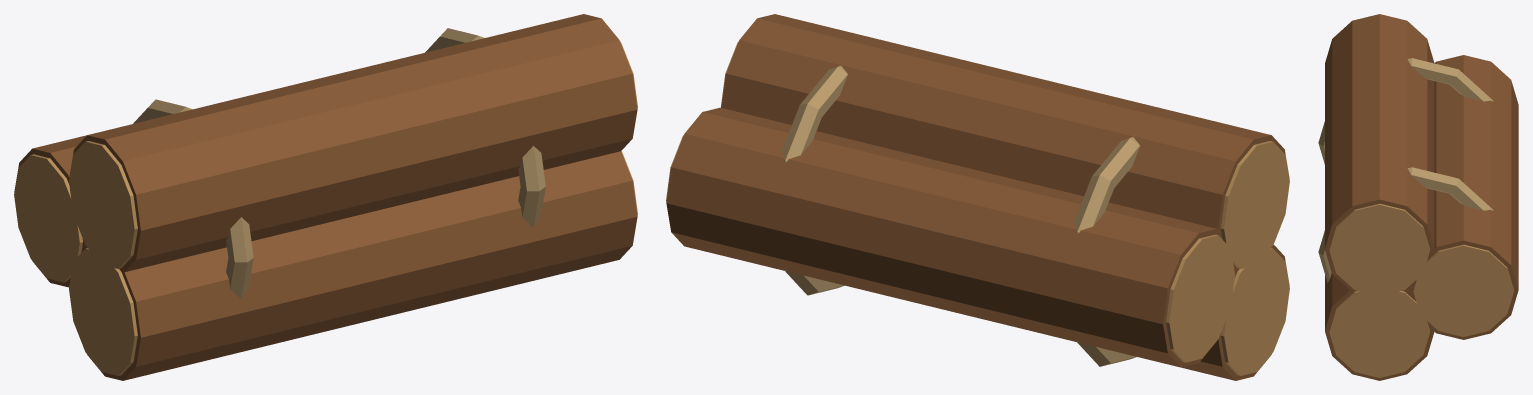
File: carry-wood-blockout.glb
The picture shows the model from 3 angles, left to right: view 1: azimuth 30°, elevation 25°; view 2: azimuth 150°, elevation 25°; view 3: azimuth 270°, elevation 25°; orthographic projection. The views are drawn at different scales.
Visible parts, largest first — view 1: Cylinder.003, Cylinder, Cylinder.004, Cylinder.001, Cylinder.007, Torus, Torus.001, Cylinder.006; view 2: Cylinder.006, Cylinder.003, Cylinder.007, Cylinder.004, Cylinder.001, Torus, Torus.001, Cylinder; view 3: Cylinder.003, Cylinder.006, Cylinder.008, Cylinder.002, Cylinder.005, Torus.001, Cylinder, Torus.
Boxes of the visible parts, x1,y1,x2,y2 form: Cylinder.003: (69,14,637,272); Cylinder: (69,151,637,380); Cylinder.004: (69,141,137,268); Cylinder.001: (69,248,137,375); Cylinder.007: (14,154,82,282); Torus: (133,99,253,298); Torus.001: (425,28,545,227); Cylinder.006: (14,135,86,287); Cylinder.006: (666,107,1234,367); Cylinder.003: (721,14,1289,273); Cylinder.007: (1166,234,1234,362); Cylinder.004: (1221,141,1289,268); Cylinder.001: (1221,248,1289,375); Torus: (1074,137,1140,366); Torus.001: (782,66,847,295); Cylinder: (1182,245,1289,380); Cylinder.003: (1325,14,1434,290); Cylinder.006: (1409,55,1518,339); Cylinder.008: (1413,244,1513,336); Cylinder.002: (1329,287,1429,377); Cylinder.005: (1329,203,1429,295); Torus.001: (1318,167,1493,282); Cylinder: (1325,273,1434,380); Torus: (1318,58,1493,164).
Size of the model in its own units: 0.689 by 0.31 by 0.31.
